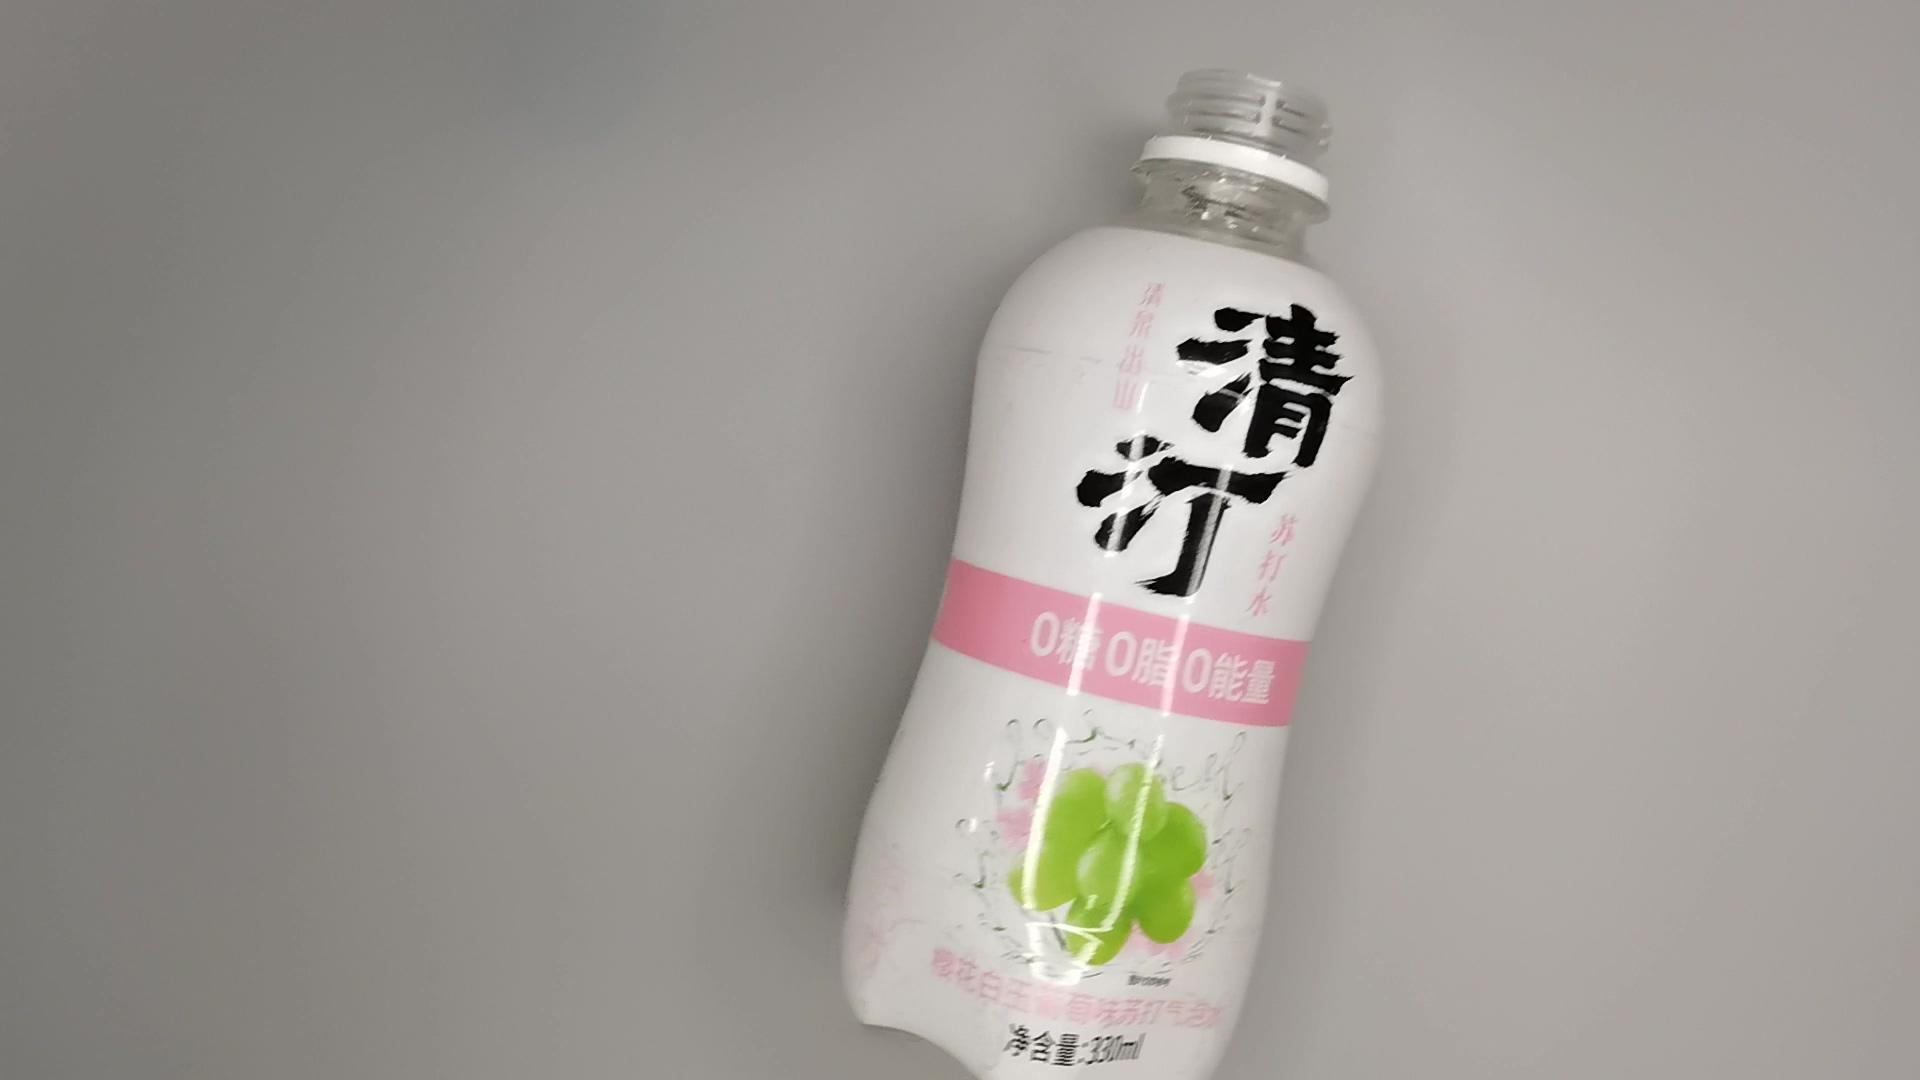bottle: (833, 53, 1393, 1080)
